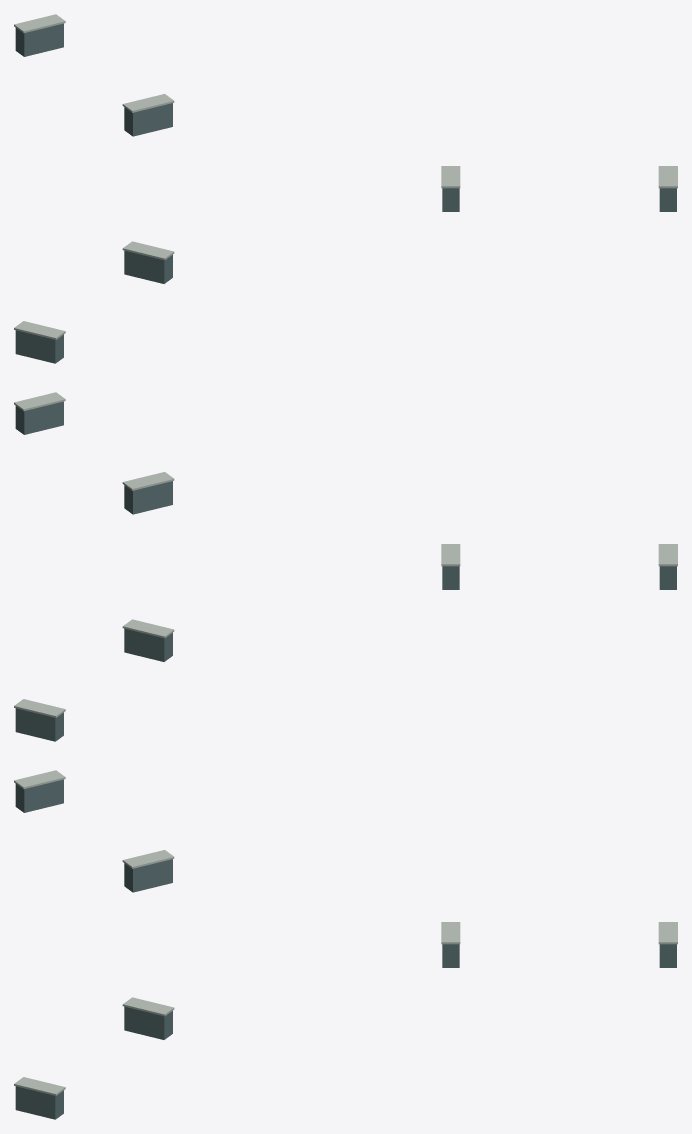
The model's file is SM_R02B_Optional_Cover.fbx.
The picture shows the model from 3 angles, top to bottom: view 1: azimuth 30°, elevation 25°; view 2: azimuth 150°, elevation 25°; view 3: azimuth 270°, elevation 25°; orthographic projection.
Parts seen in each view (by area): view 1: SM_R02B_Optional_Cover; view 2: SM_R02B_Optional_Cover; view 3: SM_R02B_Optional_Cover.
Boxes of the visible parts, x1=… form: SM_R02B_Optional_Cover: x1=14, y1=14, x2=677, y2=363; SM_R02B_Optional_Cover: x1=14, y1=392, x2=677, y2=741; SM_R02B_Optional_Cover: x1=14, y1=770, x2=677, y2=1119.
Size of the model in its own units: 59.92 by 51.89 by 2.26.
